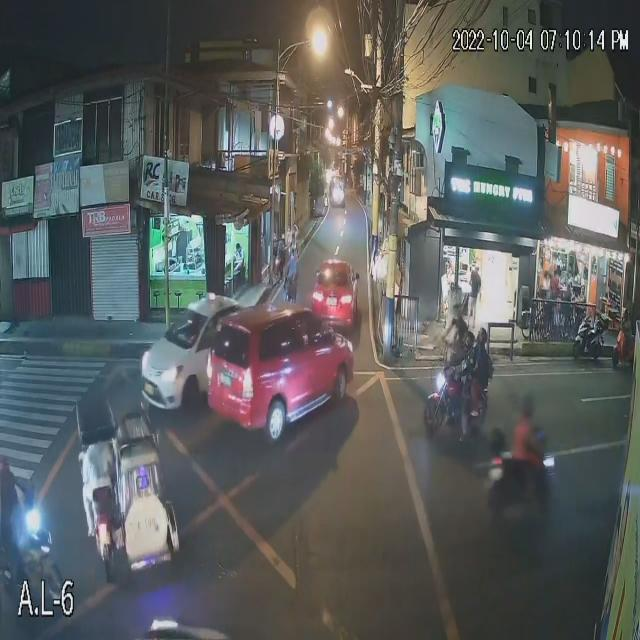helmet: (475, 324, 491, 342), (458, 332, 474, 348)
motorcycle: (422, 366, 490, 444), (486, 447, 557, 512), (4, 507, 71, 575), (568, 311, 611, 363)
rider: (511, 419, 542, 496), (453, 346, 477, 441), (470, 344, 489, 418)
